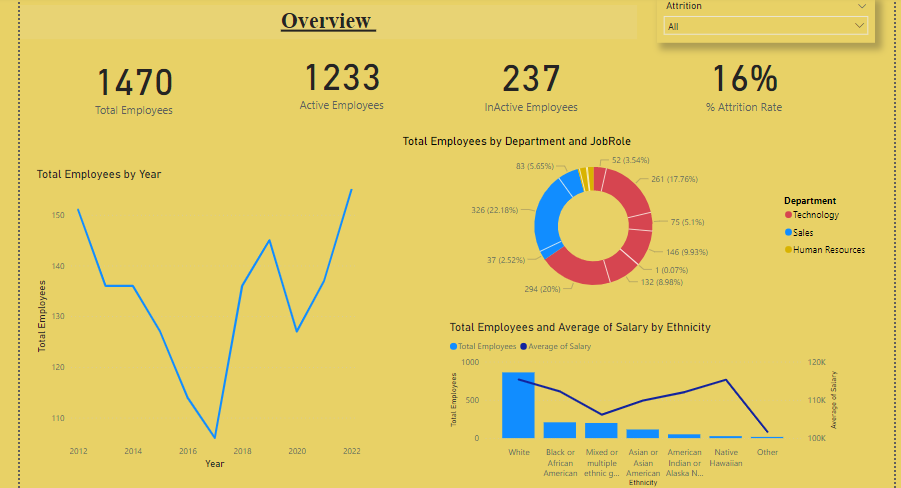

The page's visual inventory and layout, read from the dashboard file:
{"tool":"powerbi","page":{"name":"Overview","canvas":[1280,720],"ordinal":0},"visuals":[{"type":"card","fields":{"Values":["_Measures.Total Employees"]},"box":[35.1,67.3,263.4,120],"z":0},{"type":"card","fields":{"Values":["_Measures.Active Employees"]},"box":[357.1,61.5,226.8,117.1],"z":1000},{"type":"card","fields":{"Values":["_Measures.InActive Employees"]},"box":[623.4,67.3,248.8,111.2],"z":2000},{"type":"card","fields":{"Values":["_Measures.% Attrition Rate"]},"box":[945.4,70.2,228.3,103.9],"z":3000},{"type":"lineChart","fields":{"Category":["Dates.Date.Variation.Date Hierarchy.Year"],"Y":["_Measures.Total Employees"]},"box":[18.5,248.6,483.8,446.8],"z":4000},{"type":"donutChart","fields":{"Category":["Employee.Department"],"Y":["_Measures.Total Employees"],"Series":["Employee.JobRole"]},"box":[554.6,200.5,696.6,250.2],"z":5000},{"type":"lineStackedColumnComboChart","fields":{"Y":["_Measures.Total Employees"],"Category":["Employee.Ethnicity"],"Y2":["Avg(Employee.Salary)"]},"box":[623.2,472,577.8,248.6],"z":6000},{"type":"slicer","fields":{"Values":["Employee.Attrition"]},"box":[932.3,0,319.2,67.2],"z":7000},{"type":"textbox","box":[0,11.7,902.9,49.8],"z":8000}]}

Visuals, with their boxes on the page's 1280x720 design canvas (x1, y1, x2, y2). These are canvas units, not pixel positions in the 901x488 screenshot, which may show the page scaled, cropped or inside an application window:
card - _Measures.Total Employees: bbox(35, 67, 298, 187)
card - _Measures.Active Employees: bbox(357, 62, 584, 179)
card - _Measures.InActive Employees: bbox(623, 67, 872, 178)
card - _Measures.% Attrition Rate: bbox(945, 70, 1174, 174)
lineChart - Dates.Date.Variation.Date Hierarchy.Year x _Measures.Total Employees: bbox(18, 249, 502, 695)
donutChart - Employee.Department x _Measures.Total Employees: bbox(555, 200, 1251, 451)
lineStackedColumnComboChart - _Measures.Total Employees x Employee.Ethnicity: bbox(623, 472, 1201, 721)
slicer - Employee.Attrition: bbox(932, 0, 1252, 67)
textbox: bbox(0, 12, 903, 62)
